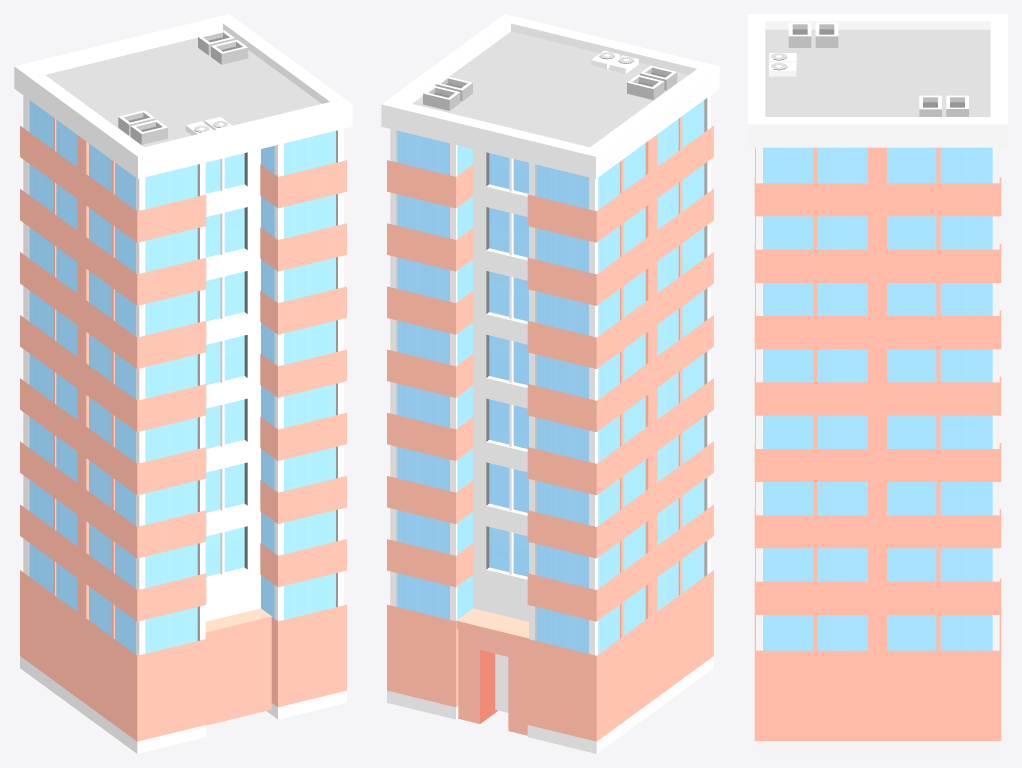
File: apartment.005.glb
3 views of the same model, side by side, from view 1: azimuth 30°, elevation 25°; view 2: azimuth 150°, elevation 25°; view 3: azimuth 270°, elevation 25° (orthographic). The views are drawn at different scales.
Visible parts, largest first — view 1: apartment.005(Clone); view 2: apartment.005(Clone); view 3: apartment.005(Clone).
Boxes of the visible parts, left/top/right/bottom form: apartment.005(Clone): left=14, top=14, right=352, bottom=753; apartment.005(Clone): left=381, top=14, right=719, bottom=753; apartment.005(Clone): left=748, top=14, right=1007, bottom=753.
Bounding box in the file's own units: 8.44 × 22.68 × 8.41.
1 material, 1 textured.
